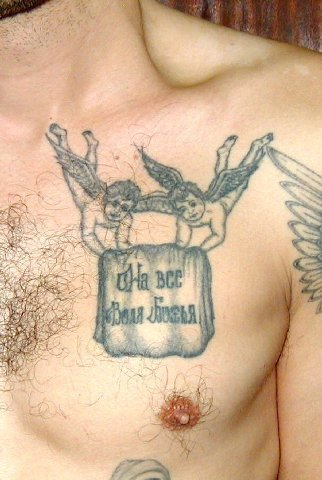tatu1_angel: (41, 114, 281, 246)
tatu3_bukva: (89, 247, 226, 360)
